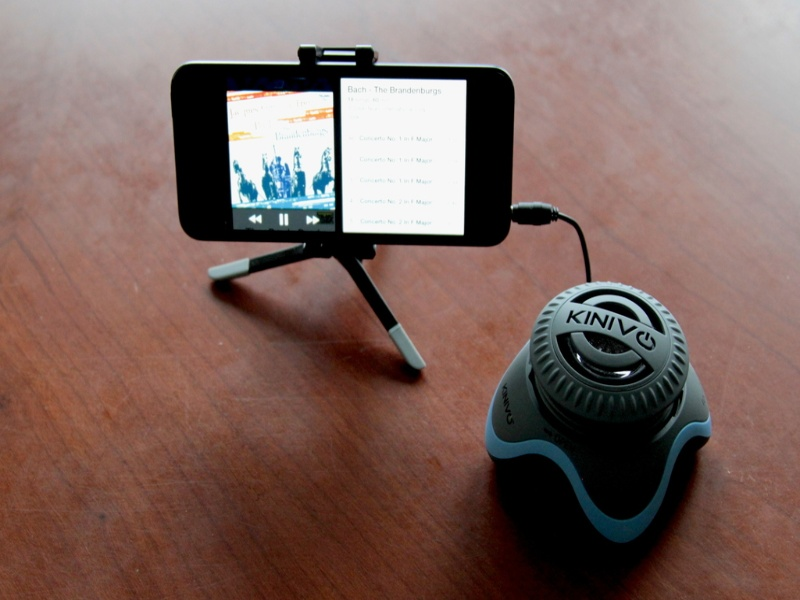Mobile Phone: (154, 38, 533, 255)
